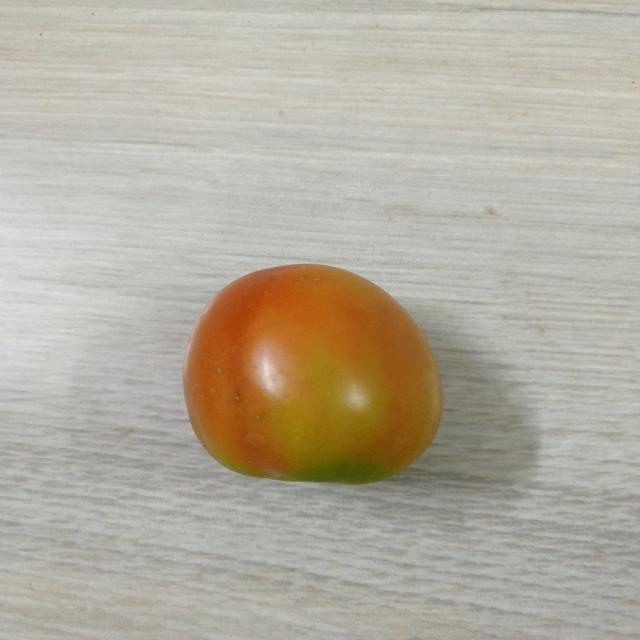Tomato: (181, 260, 452, 488)
